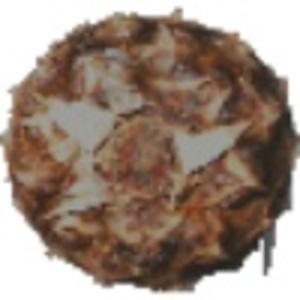abacaxi: (2, 9, 291, 293)
